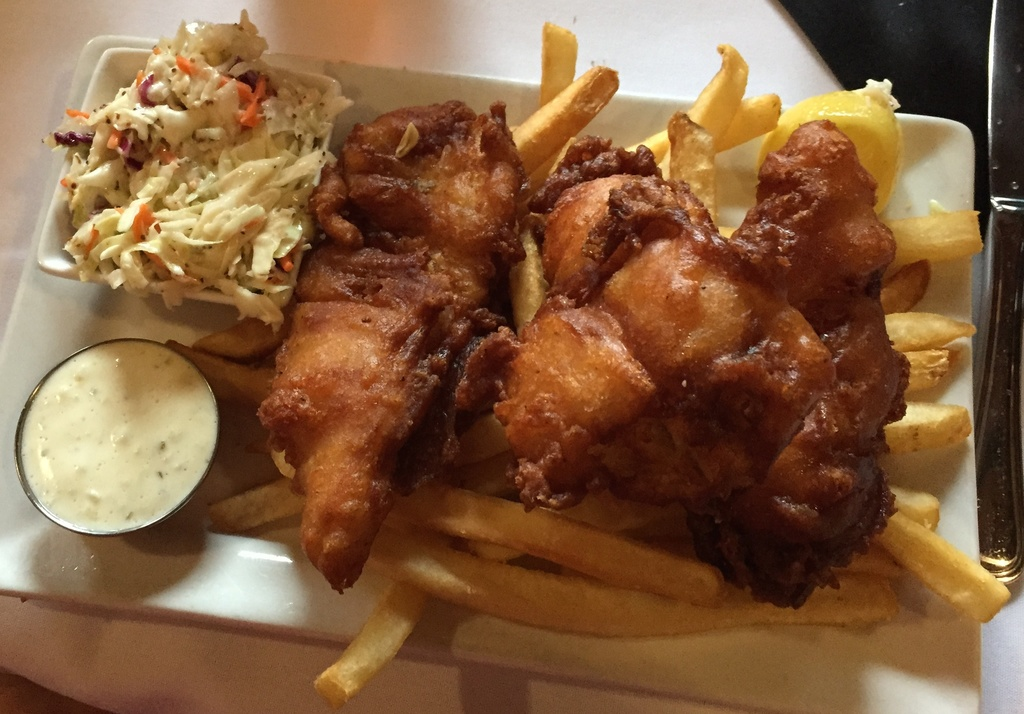French fries: (163, 15, 1007, 703), (672, 78, 786, 174)
